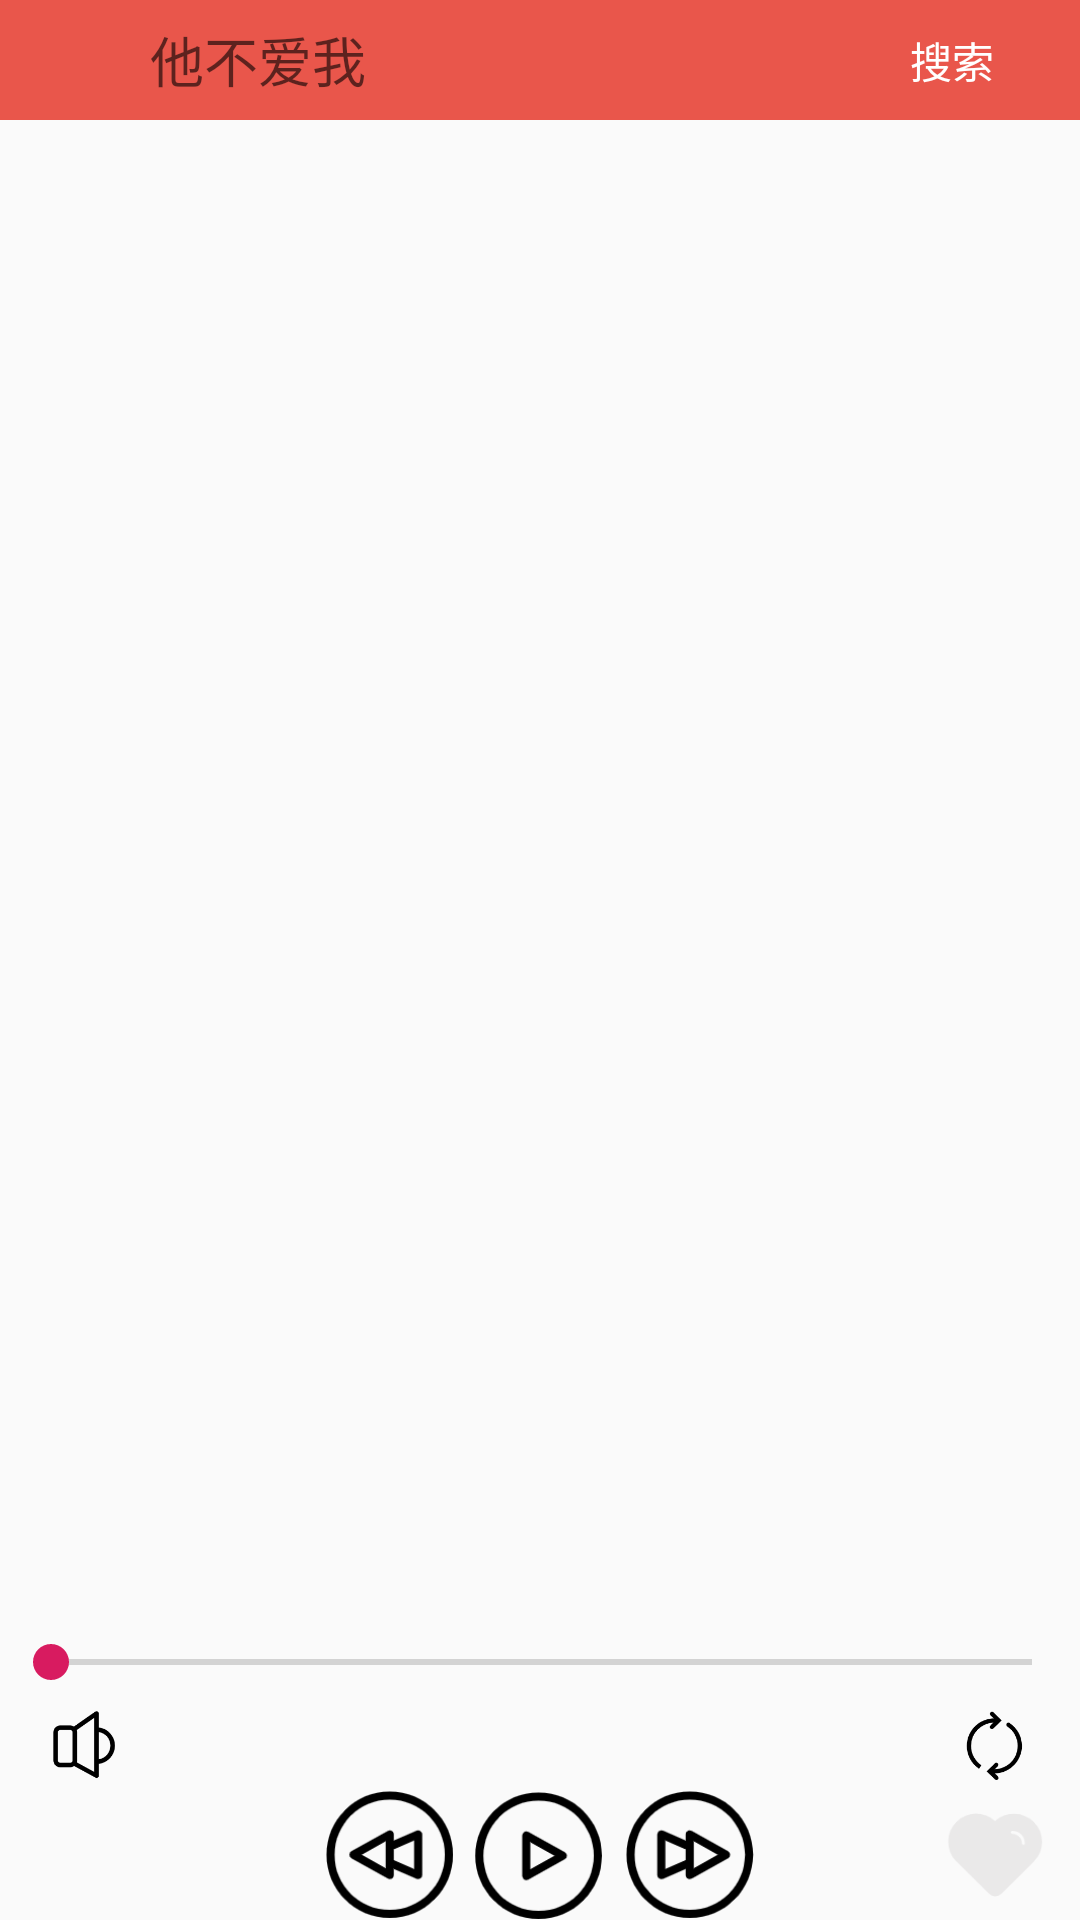

Where icons sit on this 1080 x 1920 app screen, as (x1=x1, y1=y1, x2=x2, y2=y2):
cycle: (x1=966, y1=1711, x2=1022, y2=1780)
last: (x1=326, y1=1791, x2=453, y2=1918)
next: (x1=626, y1=1791, x2=754, y2=1918)
sound: (x1=53, y1=1711, x2=115, y2=1778)
